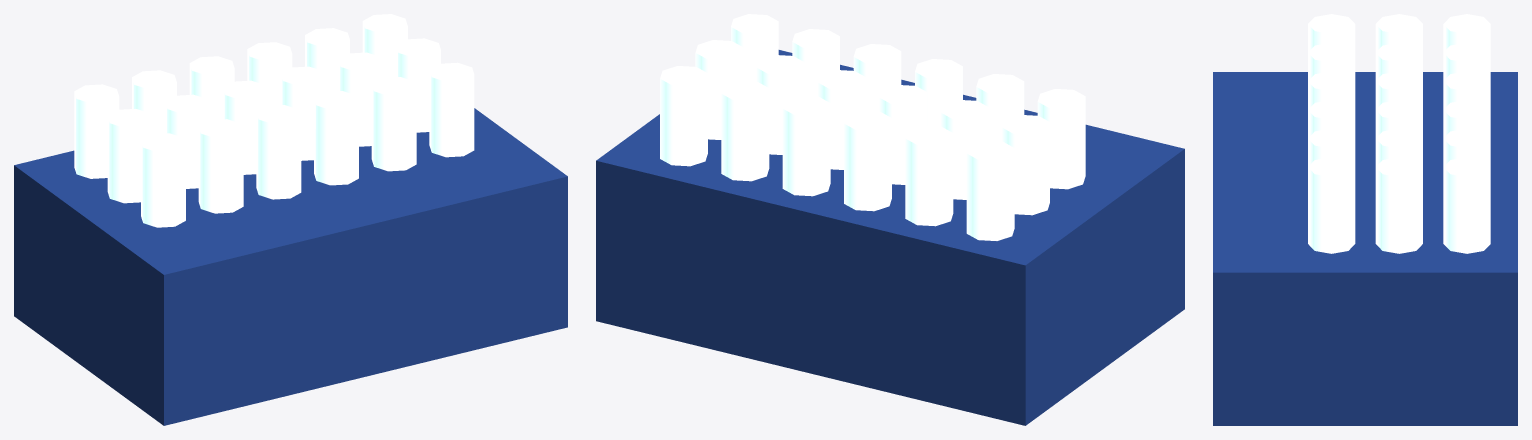
Rendered from CB_GAME_ChalkBox_VN_A.glb.
3 views of the same model, side by side, from view 1: azimuth 30°, elevation 25°; view 2: azimuth 150°, elevation 25°; view 3: azimuth 270°, elevation 25° (orthographic). The views are drawn at different scales.
Parts seen in each view (by area): view 1: CB_GAME_ChalkBox_VN_A; view 2: CB_GAME_ChalkBox_VN_A; view 3: CB_GAME_ChalkBox_VN_A.
Part boxes in pixels (bbox=[...]): CB_GAME_ChalkBox_VN_A: bbox=[14, 14, 567, 425]; CB_GAME_ChalkBox_VN_A: bbox=[596, 14, 1184, 425]; CB_GAME_ChalkBox_VN_A: bbox=[1213, 14, 1517, 425].
Bounding box in the file's own units: 0.28 × 0.15 × 0.18.
